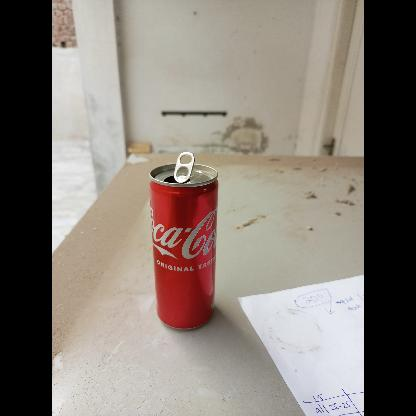Lid_Open: (163, 144, 199, 190)
Tin_Can: (148, 151, 220, 332)
